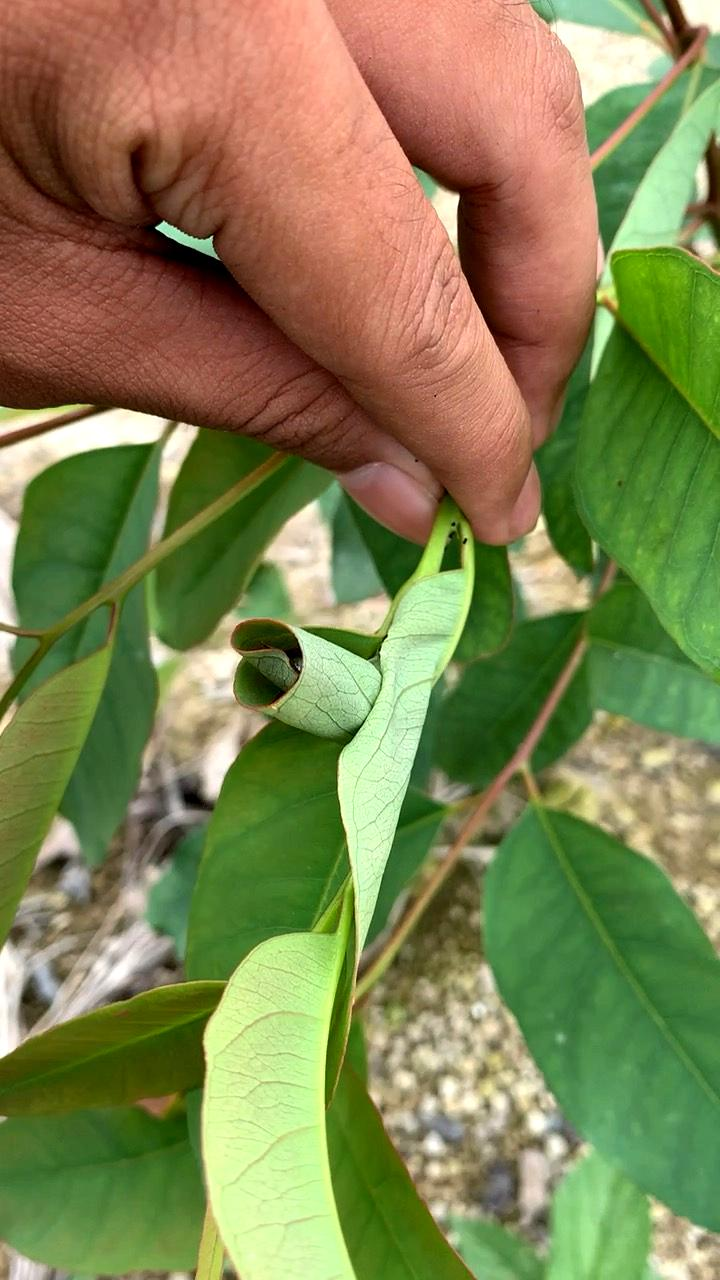Leaf Roller - Leaf: (215, 585, 437, 790)
